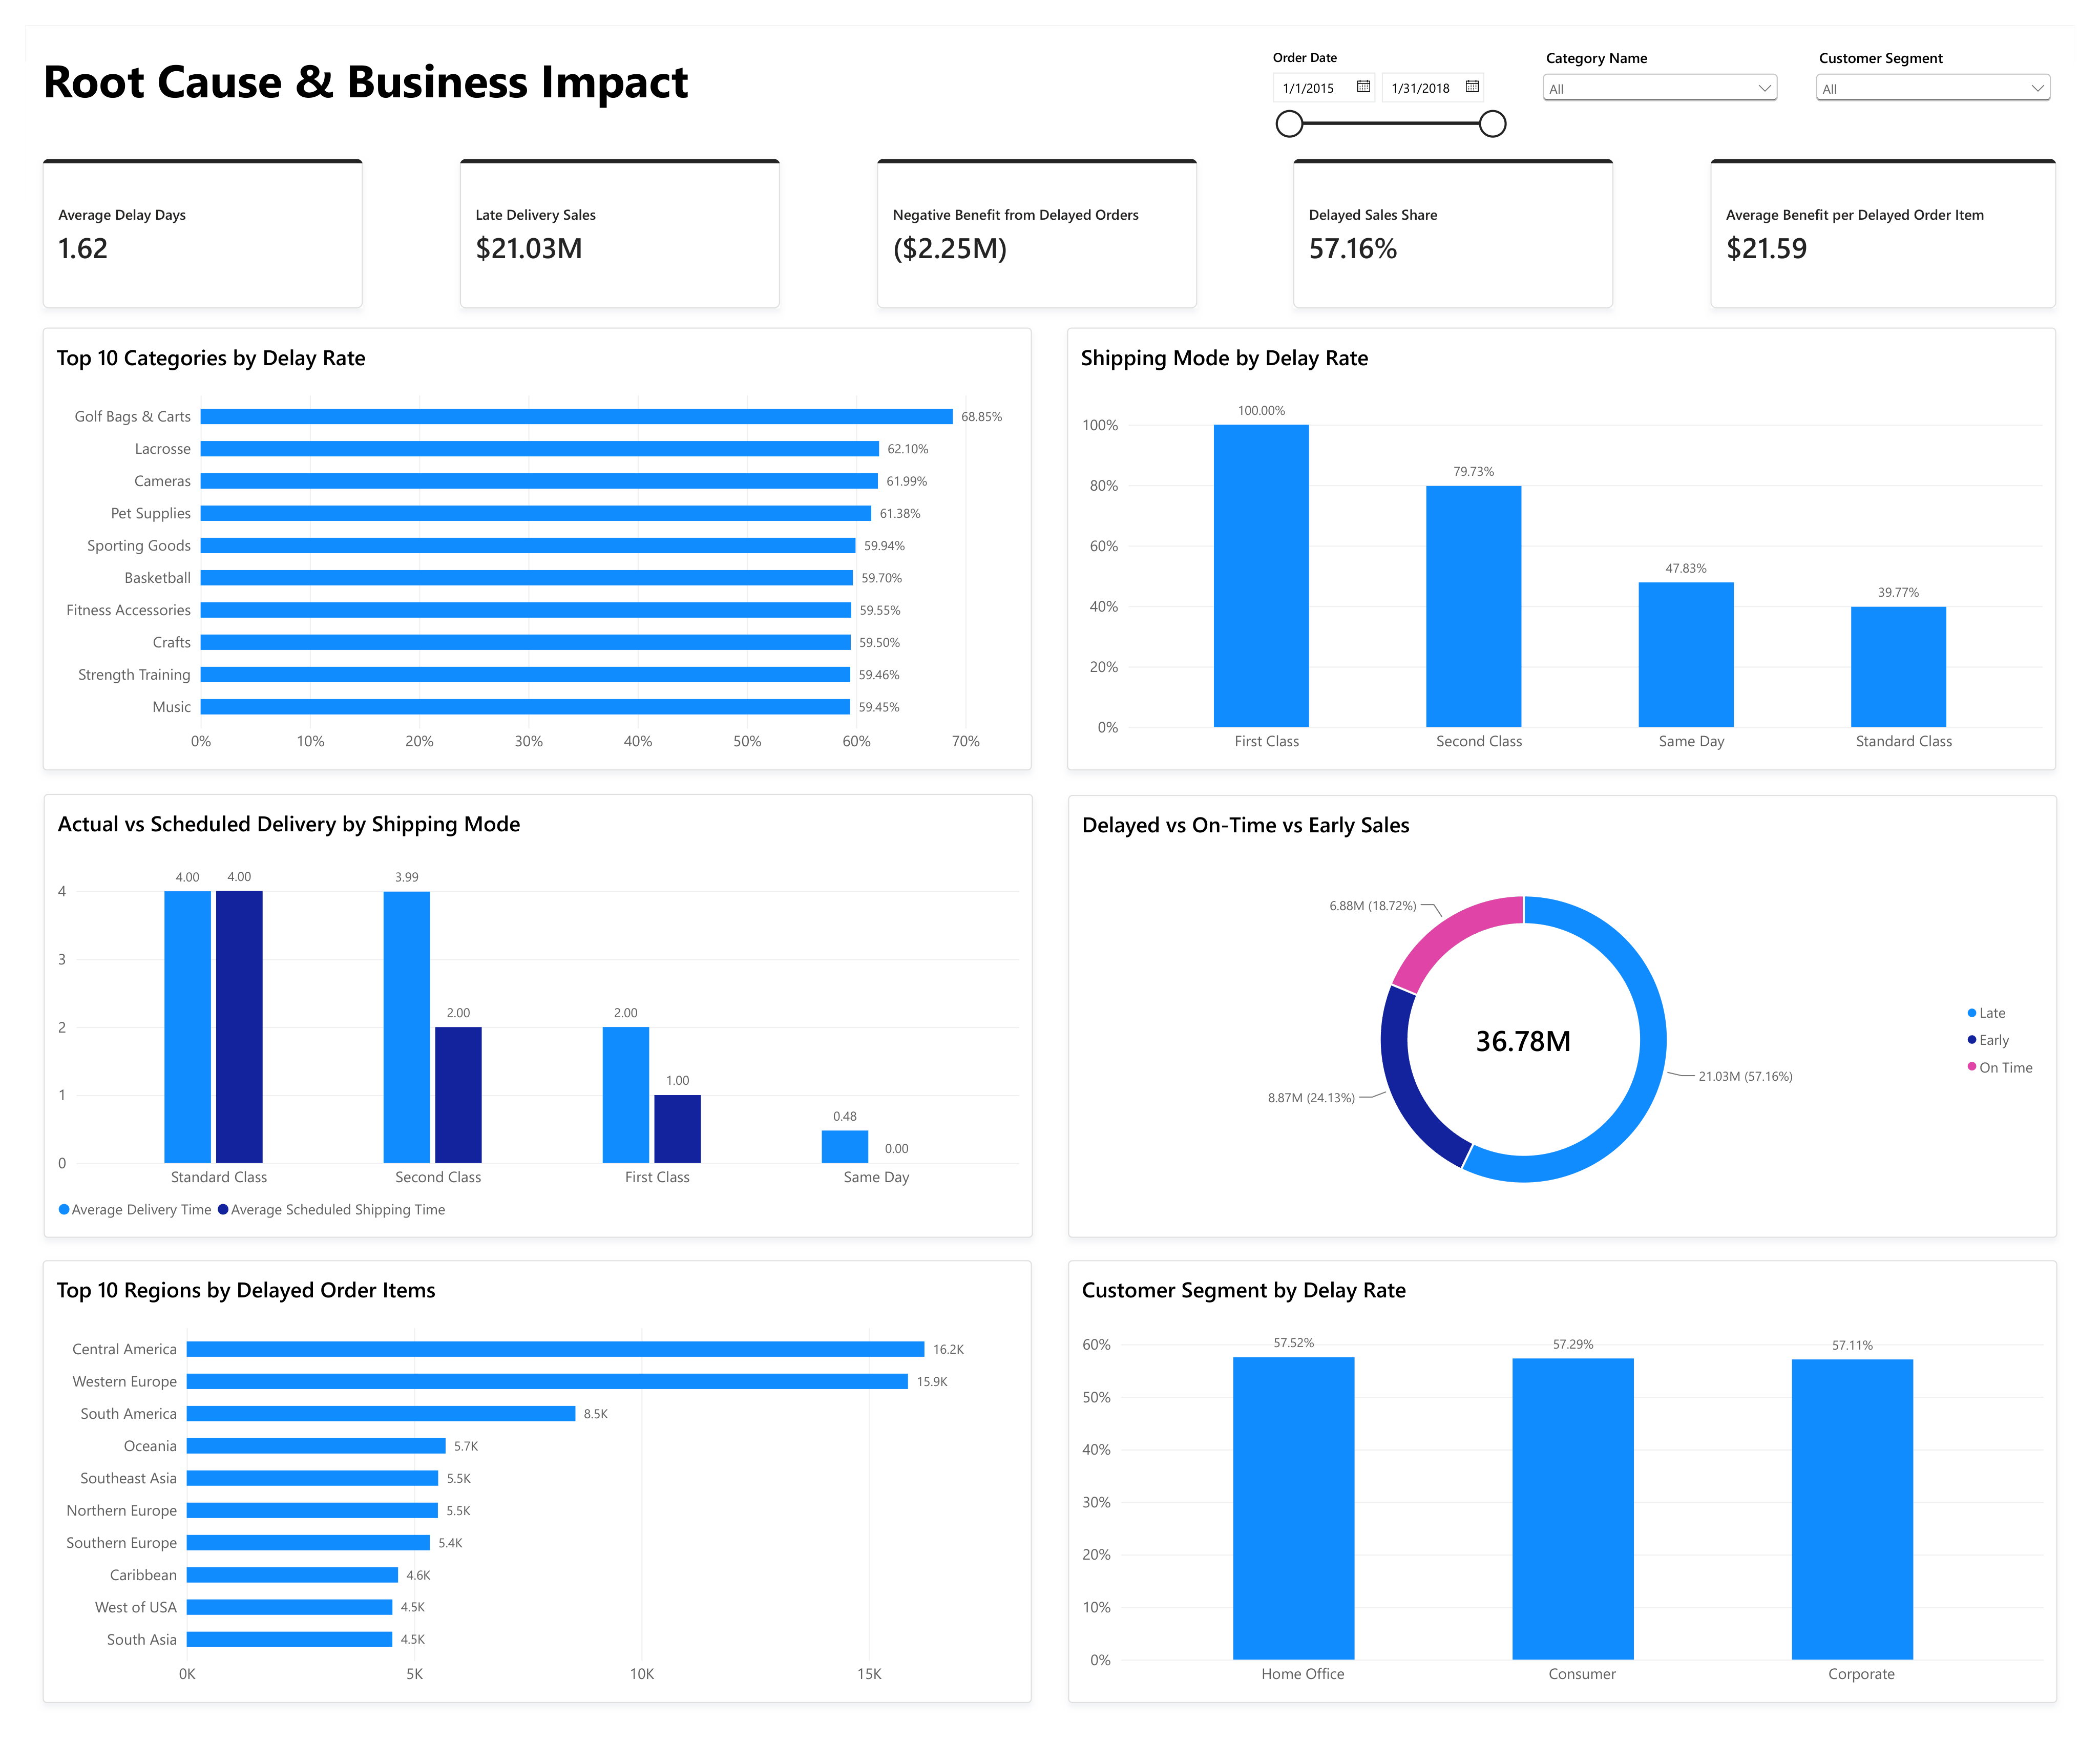

The page's visual inventory and layout, read from the dashboard file:
{"tool":"powerbi","page":{"name":"Root Cause & Business Impact","canvas":[1920,1585],"ordinal":2},"visuals":[{"type":"textbox","box":[16.4,21.1,1888.7,91.5],"z":0},{"type":"cardVisual","fields":{"Data":["cleaned_supply_chain.Average Delay Days"]},"box":[16.4,124.5,300,140.8],"z":0},{"type":"slicer","fields":{"Values":["cleaned_supply_chain.order_date"]},"box":[1161.4,21.1,229.9,84.5],"z":1000},{"type":"cardVisual","fields":{"Data":["cleaned_supply_chain.Late Delivery Sales"]},"box":[407.1,124.5,300,140],"z":1000},{"type":"slicer","fields":{"Values":["cleaned_supply_chain.category_name"]},"box":[1417.1,21.1,229.9,84.5],"z":2000},{"type":"cardVisual","fields":{"Data":["cleaned_supply_chain.Negative Benefit from Delayed Orders"]},"box":[797.7,124.5,300,140],"z":2000},{"type":"slicer","fields":{"Values":["cleaned_supply_chain.customer_segment"]},"box":[1672.9,21.1,229.9,84.5],"z":3000},{"type":"cardVisual","fields":{"Data":["cleaned_supply_chain.Delayed Sales"]},"box":[1188.4,124.5,300,140],"z":3000},{"type":"cardVisual","fields":{"Data":["cleaned_supply_chain.Average Benefit per Delayed Order Item"]},"box":[1579,124.5,323.8,140.8],"z":4000},{"type":"clusteredBarChart","title":"Top 10 Categories by Delay Rate","fields":{"Category":["cleaned_supply_chain.category_name"],"Y":["cleaned_supply_chain.Delay Rate"]},"box":[16.4,282.8,926.8,415],"z":5000},{"type":"clusteredColumnChart","title":"Shipping Mode by Delay Rate","fields":{"Category":["cleaned_supply_chain.shipping_mode"],"Y":["cleaned_supply_chain.Delay Rate"]},"box":[976,282.8,926.8,415],"z":6000},{"type":"clusteredColumnChart","title":"Actual vs Scheduled Delivery by Shipping Mode","fields":{"Category":["cleaned_supply_chain.shipping_mode"],"Y":["cleaned_supply_chain.Average Delivery Time","cleaned_supply_chain.Average Scheduled Shipping Time"]},"box":[17.4,720.3,926.8,415.3],"z":7000},{"type":"donutChart","title":"Delayed vs On-Time vs Early Sales","fields":{"Y":["cleaned_supply_chain.Total Sales"],"Category":["cleaned_supply_chain.shipping_performance"]},"box":[977,720.7,927,415],"z":8000},{"type":"clusteredBarChart","title":"Top 10 Regions by Delayed Order Items","fields":{"Y":["cleaned_supply_chain.Delayed Order Items"],"Category":["cleaned_supply_chain.order_region"]},"box":[16.4,1156.9,926.8,415.3],"z":10000},{"type":"clusteredColumnChart","title":"Customer Segment by Delay Rate","fields":{"Category":["cleaned_supply_chain.customer_segment"],"Y":["cleaned_supply_chain.Delay Rate"]},"box":[977,1157.3,927,415],"z":11000}]}

Visuals, with their boxes on the page's 1920x1585 design canvas (x1, y1, x2, y2). These are canvas units, not pixel positions in the 2100x1743 screenshot, which may show the page scaled, cropped or inside an application window:
textbox: BBox(16, 21, 1905, 113)
cardVisual - cleaned_supply_chain.Average Delay Days: BBox(16, 124, 316, 265)
slicer - cleaned_supply_chain.order_date: BBox(1161, 21, 1391, 106)
cardVisual - cleaned_supply_chain.Late Delivery Sales: BBox(407, 124, 707, 264)
slicer - cleaned_supply_chain.category_name: BBox(1417, 21, 1647, 106)
cardVisual - cleaned_supply_chain.Negative Benefit from Delayed Orders: BBox(798, 124, 1098, 264)
slicer - cleaned_supply_chain.customer_segment: BBox(1673, 21, 1903, 106)
cardVisual - cleaned_supply_chain.Delayed Sales: BBox(1188, 124, 1488, 264)
cardVisual - cleaned_supply_chain.Average Benefit per Delayed Order Item: BBox(1579, 124, 1903, 265)
"Top 10 Categories by Delay Rate" clusteredBarChart: BBox(16, 283, 943, 698)
"Shipping Mode by Delay Rate" clusteredColumnChart: BBox(976, 283, 1903, 698)
"Actual vs Scheduled Delivery by Shipping Mode" clusteredColumnChart: BBox(17, 720, 944, 1136)
"Delayed vs On-Time vs Early Sales" donutChart: BBox(977, 721, 1904, 1136)
"Top 10 Regions by Delayed Order Items" clusteredBarChart: BBox(16, 1157, 943, 1572)
"Customer Segment by Delay Rate" clusteredColumnChart: BBox(977, 1157, 1904, 1572)
